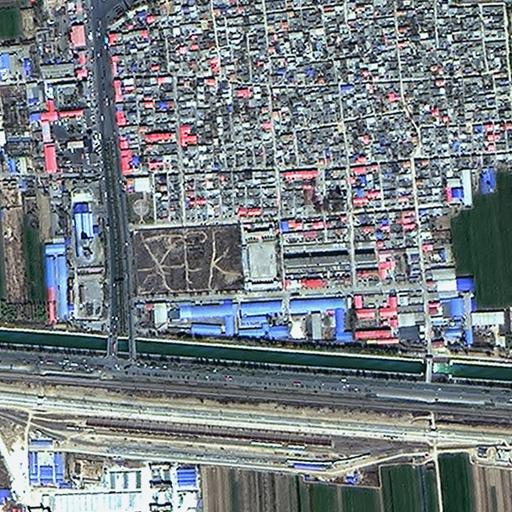school: (241, 221, 278, 283)
